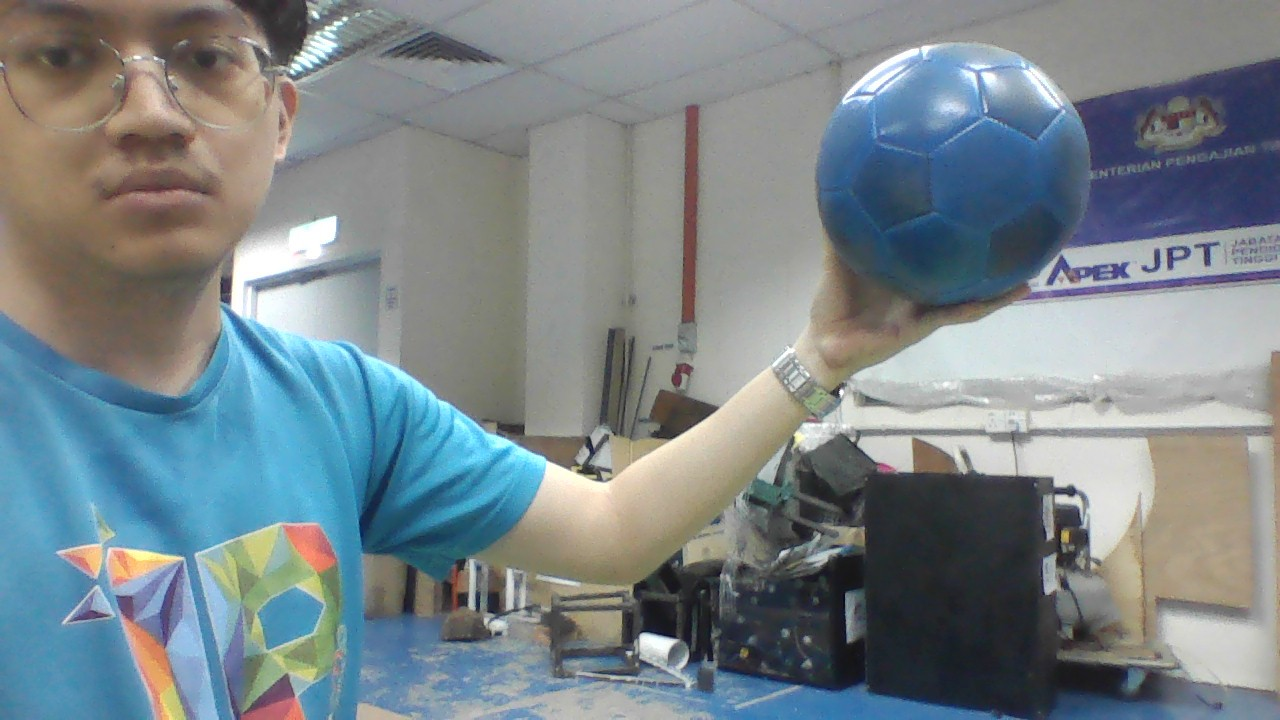Blue: (815, 42, 1089, 300)
